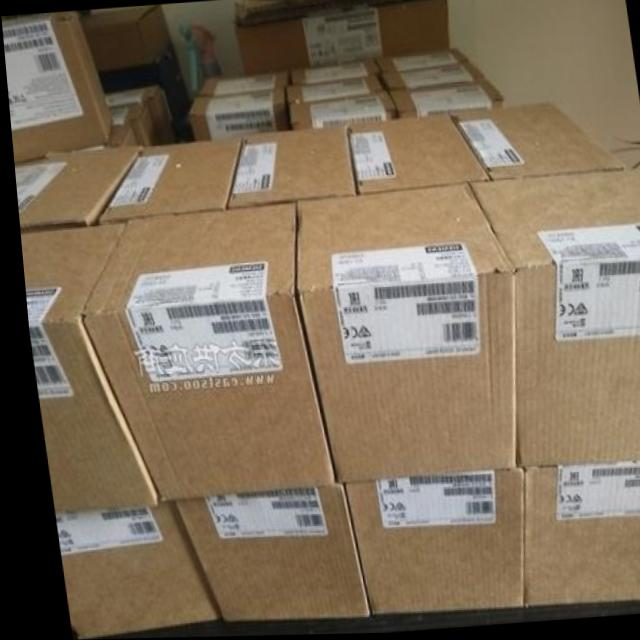box: (74, 202, 326, 504), (291, 186, 509, 484), (467, 170, 640, 468), (16, 222, 150, 513), (335, 466, 516, 615), (167, 485, 357, 619), (48, 503, 210, 640), (513, 459, 640, 609), (1, 11, 111, 161), (235, 0, 447, 73), (450, 100, 621, 180), (93, 137, 240, 224), (346, 113, 485, 193), (222, 126, 354, 210), (11, 145, 135, 227), (78, 5, 172, 71), (188, 90, 287, 141), (388, 80, 502, 121), (287, 91, 397, 132), (234, 0, 397, 25), (104, 88, 170, 145), (381, 60, 484, 90), (287, 73, 383, 103), (289, 56, 378, 86), (376, 45, 467, 72), (199, 68, 286, 95), (109, 105, 159, 145), (103, 119, 134, 144)
